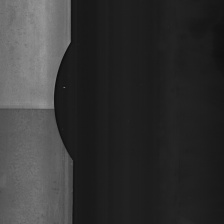crescent_gap: (50, 36, 81, 167), (1, 102, 60, 123)
